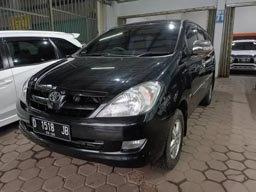plat: (30, 119, 71, 141)
